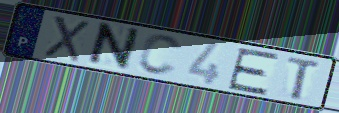4: (184, 41, 223, 88)
C: (135, 33, 185, 77)
E: (225, 47, 282, 97)
N: (83, 21, 143, 73)
T: (285, 55, 324, 102)
X: (41, 14, 92, 65)
